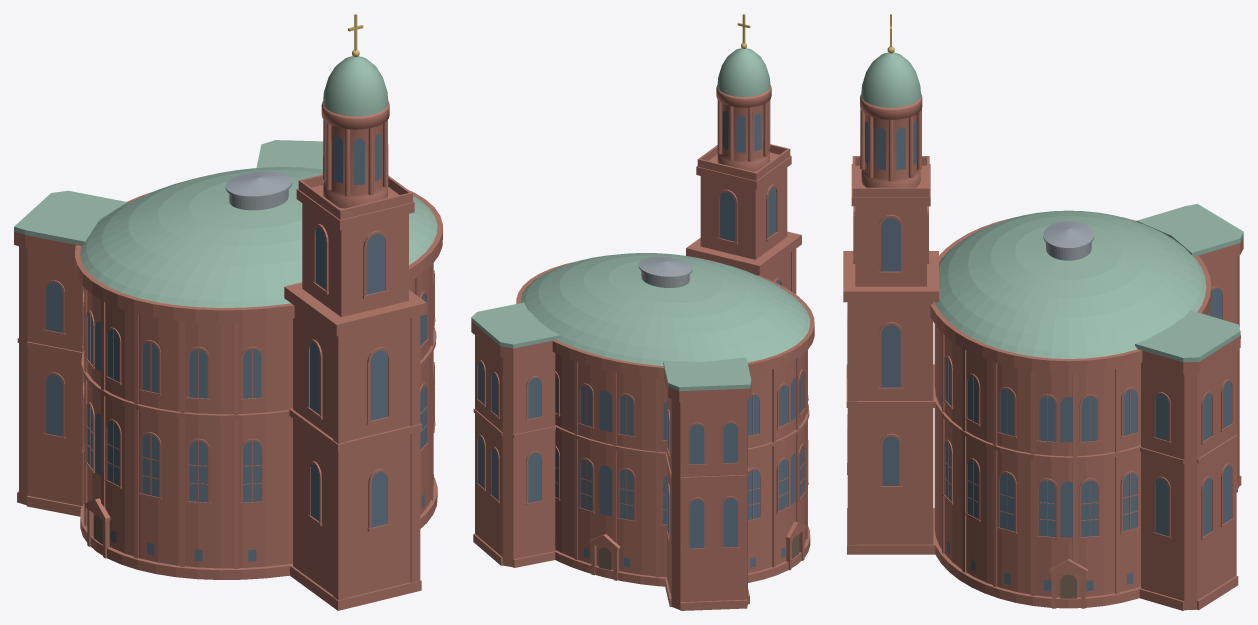
File: frankfurt-paulskirche.detail.glb
The picture shows the model from 3 angles, left to right: view 1: azimuth 30°, elevation 25°; view 2: azimuth 150°, elevation 25°; view 3: azimuth 270°, elevation 25°; orthographic projection. The views are drawn at different scales.
Parts seen in each view (by area): view 1: Paulskirche; view 2: Paulskirche; view 3: Paulskirche.
Boxes of the visible parts, x1,y1,x2,y2 form: Paulskirche: (14,14,442,610); Paulskirche: (471,14,814,610); Paulskirche: (843,14,1243,610).
Size of the model in its own units: 43.75 by 69 by 48.04.
